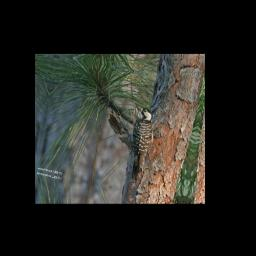Woodpecker: (120, 105, 165, 188)
